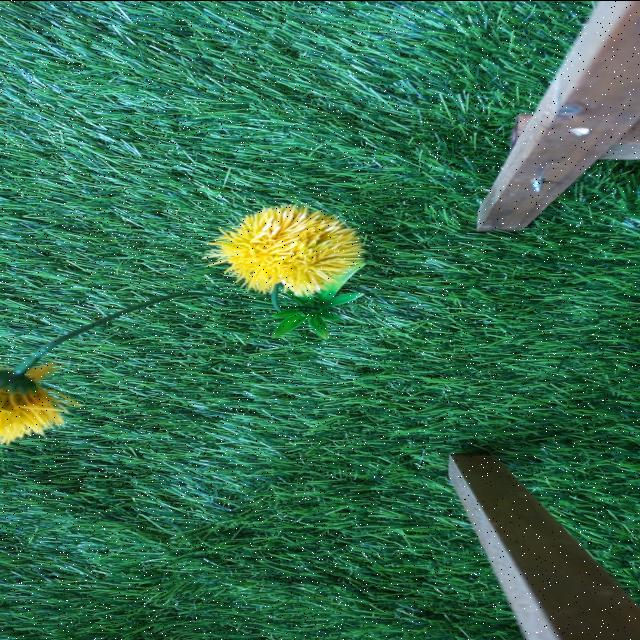base: (266, 259, 366, 336)
flower: (214, 212, 354, 290), (0, 359, 62, 446)
